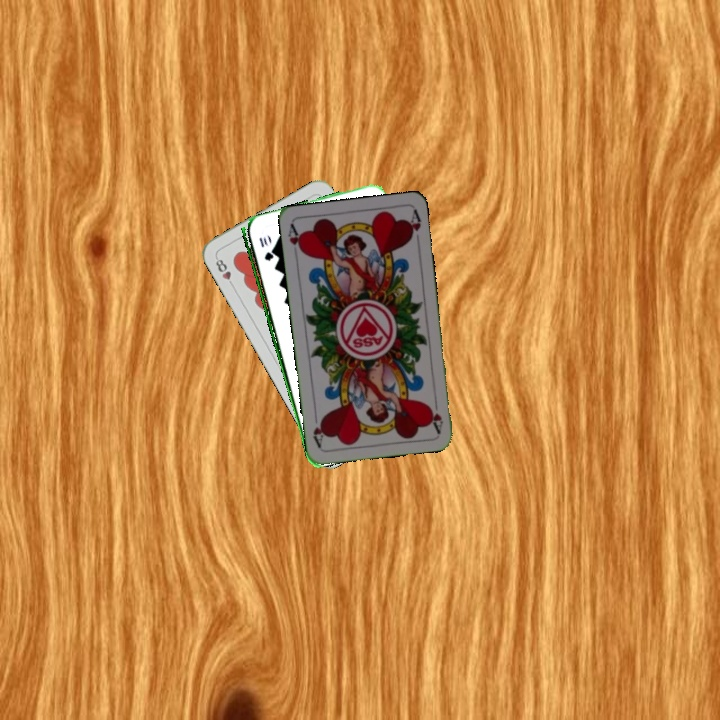G10: (255, 233, 274, 263)
H8: (211, 253, 237, 290)
HA: (426, 394, 446, 434), (284, 221, 306, 256)
